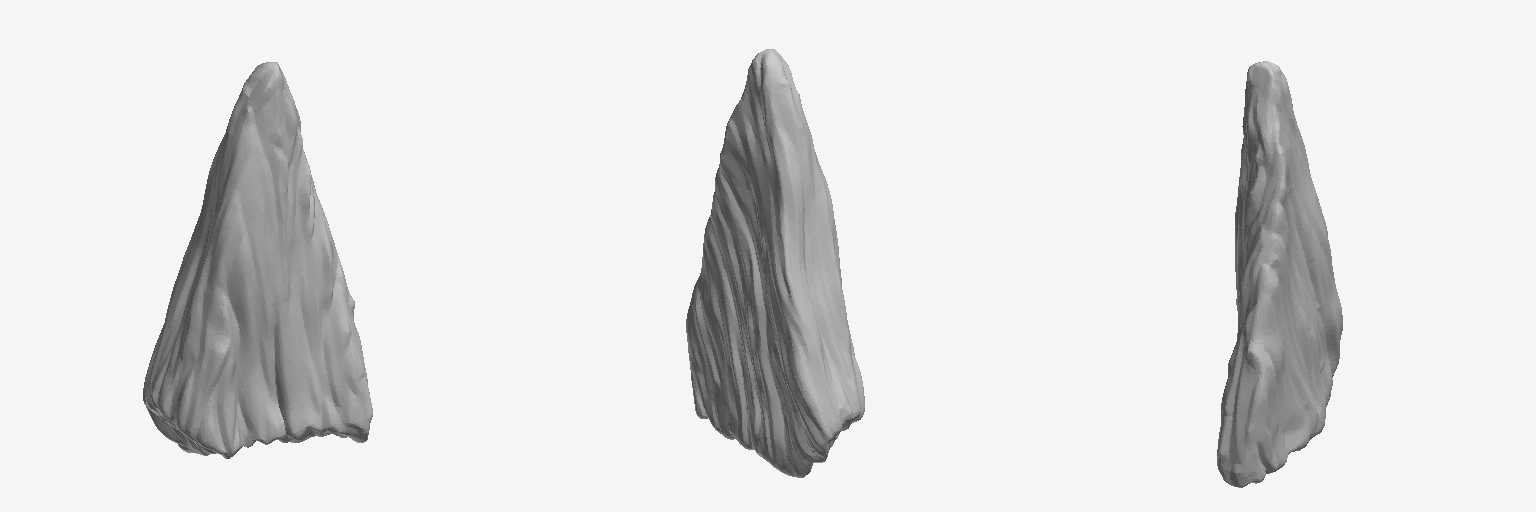
File: CL_drums_dir1_LOD0.obj
The picture shows the model from 3 angles: view 1: azimuth 30°, elevation 25°; view 2: azimuth 150°, elevation 25°; view 3: azimuth 270°, elevation 25°; orthographic projection.
Size of the model in its own units: 0.499 by 1 by 0.2904.